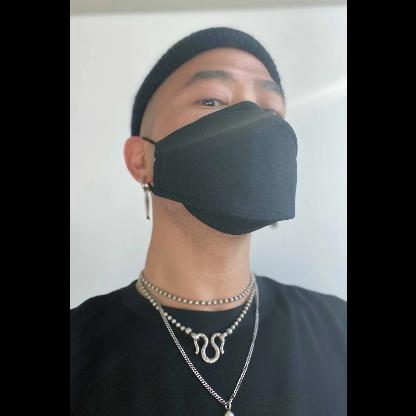Fabric/Cloth Mask: (111, 17, 301, 239)
